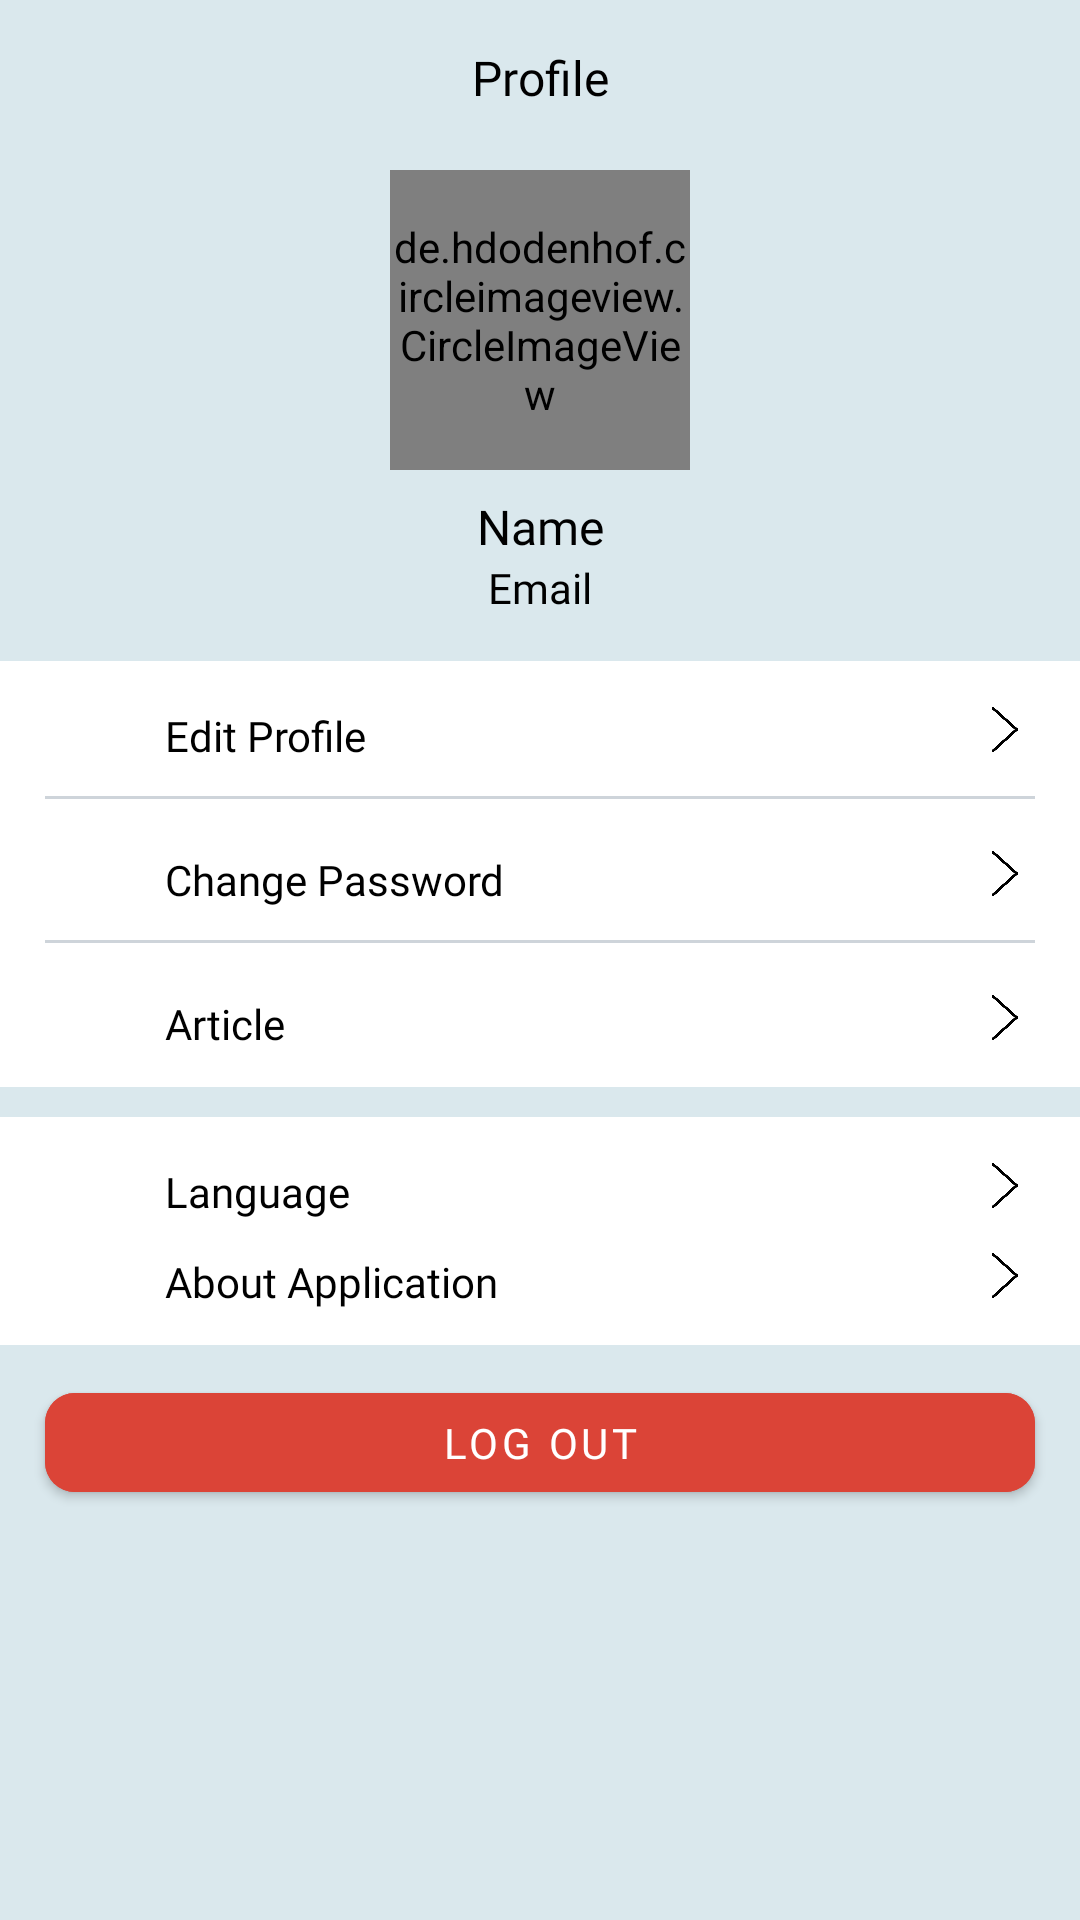

Point at icon controls on the screen. Image size 1080×1920, points as (x,y).
more: (1005,729), (1005,873), (1005,1017), (1005,1185), (1005,1275)
